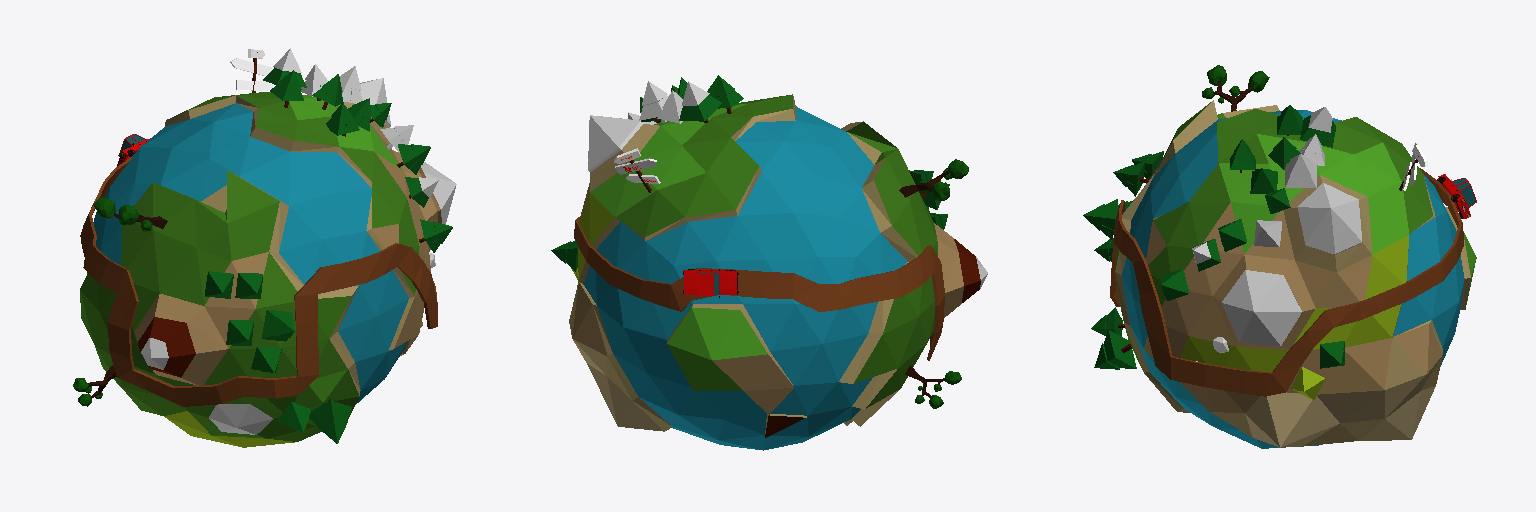
File: earth.obj
3 views of the same model, side by side, from view 1: azimuth 30°, elevation 25°; view 2: azimuth 150°, elevation 25°; view 3: azimuth 270°, elevation 25° (orthographic).
Parts seen in each view (by area): view 1: 棱角球_棱角球.001, 平面, 立方体.019_立方体.027, Icosphere.005, router_cube, 立方体.014_立方体.022, 立方体.002, 立方体.020_立方体.028, 立方体.018_立方体.026, 立方体.017_立方体.025, Icosphere.000, 立方体 (+8 smaller); view 2: 棱角球_棱角球.001, 平面, Cube.002, 立方体.002, Icosphere.005, router_cube, Icosphere.000, 立方体.003, 立方体; view 3: 棱角球_棱角球.001, 平面, Icosphere.005, 立方体.019_立方体.027, 立方体.002, 立方体.003, Cube.002, 立方体.014_立方体.022, 立方体.008, 立方体.013_立方体.016, 立方体.011_立方体.014, 立方体.010_立方体.013 (+6 smaller).
Part boxes in pixels (bbox=[...]): 棱角球_棱角球.001: bbox=[80, 78, 456, 447]; 平面: bbox=[80, 154, 437, 406]; 立方体.019_立方体.027: bbox=[309, 399, 352, 443]; Icosphere.005: bbox=[93, 197, 167, 231]; router_cube: bbox=[230, 49, 273, 92]; 立方体.014_立方体.022: bbox=[261, 310, 294, 341]; 立方体.002: bbox=[263, 48, 306, 87]; 立方体.020_立方体.028: bbox=[205, 271, 233, 298]; 立方体.018_立方体.026: bbox=[226, 320, 253, 345]; 立方体.017_立方体.025: bbox=[235, 273, 262, 298]; Icosphere.000: bbox=[73, 365, 116, 406]; 立方体: bbox=[270, 70, 303, 107]; 棱角球_棱角球.001: bbox=[569, 94, 987, 450]; 平面: bbox=[574, 217, 944, 360]; Cube.002: bbox=[683, 269, 738, 297]; 立方体.002: bbox=[679, 81, 721, 122]; Icosphere.005: bbox=[899, 159, 968, 200]; router_cube: bbox=[614, 148, 660, 192]; Icosphere.000: bbox=[905, 366, 961, 408]; 立方体.003: bbox=[639, 81, 668, 122]; 立方体: bbox=[712, 77, 743, 113]; 棱角球_棱角球.001: bbox=[1115, 100, 1476, 448]; 平面: bbox=[1110, 168, 1463, 396]; Icosphere.005: bbox=[1202, 65, 1269, 111]; 立方体.019_立方体.027: bbox=[1094, 330, 1136, 369]; 立方体.002: bbox=[1300, 107, 1335, 147]; 立方体.003: bbox=[1285, 154, 1316, 187]; Cube.002: bbox=[1437, 174, 1476, 218]; 立方体.014_立方体.022: bbox=[1083, 199, 1117, 239]; 立方体.008: bbox=[1254, 220, 1281, 246]; 立方体.013_立方体.016: bbox=[1291, 367, 1325, 399]; 立方体.011_立方体.014: bbox=[1160, 269, 1189, 300]; 立方体.010_立方体.013: bbox=[1192, 239, 1220, 271].
Size of the model in its own units: 7.39 by 6.66 by 6.72.